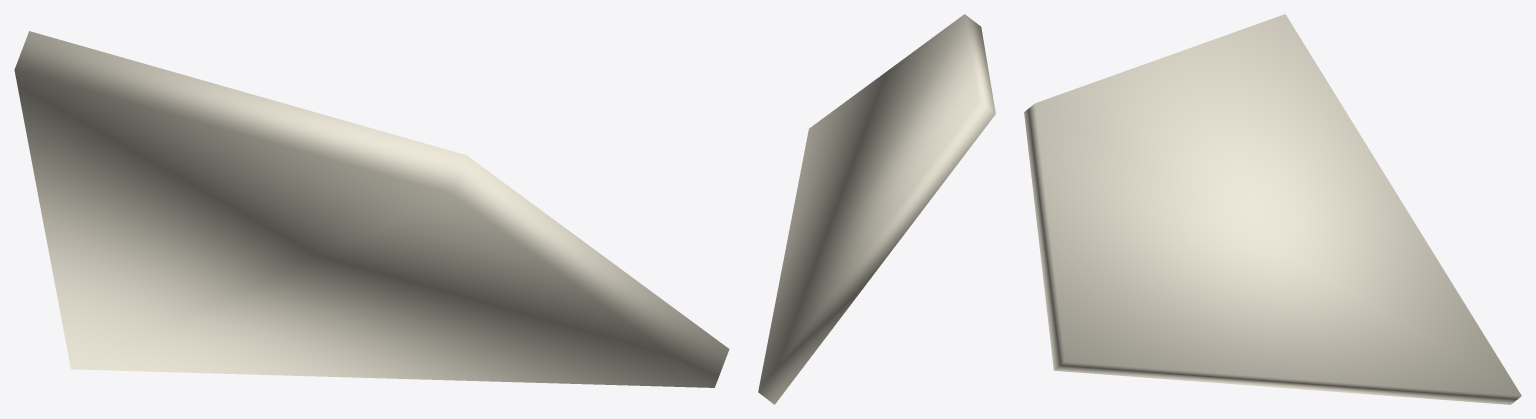
The picture shows the model from 3 angles, left to right: view 1: azimuth 30°, elevation 25°; view 2: azimuth 150°, elevation 25°; view 3: azimuth 270°, elevation 25°; orthographic projection. The views are drawn at different scales.
Visible parts, largest first — view 1: ZA_d58fff38e4f26312; view 2: ZA_d58fff38e4f26312; view 3: ZA_d58fff38e4f26312.
Boxes of the visible parts, x1=… form: ZA_d58fff38e4f26312: x1=14, y1=31, x2=729, y2=387; ZA_d58fff38e4f26312: x1=758, y1=14, x2=995, y2=404; ZA_d58fff38e4f26312: x1=1024, y1=14, x2=1521, y2=404.
Bounding box in the file's own units: 0.00712 × 0.0066 × 0.00921.
